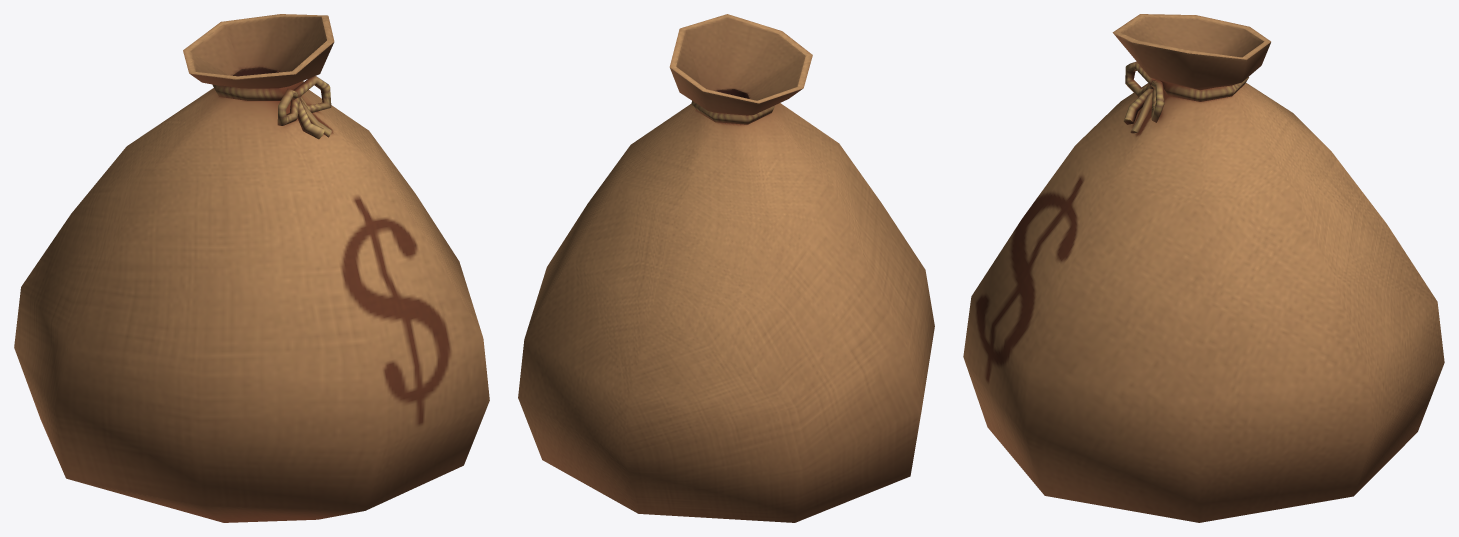
Rendered from Bag-of-Gold.fbx.
3 renders of one model, left to right at view 1: azimuth 30°, elevation 25°; view 2: azimuth 150°, elevation 25°; view 3: azimuth 270°, elevation 25°, orthographic. The views are drawn at different scales.
Parts seen in each view (by area): view 1: Bag-of-Gold; view 2: Bag-of-Gold; view 3: Bag-of-Gold.
Boxes of the visible parts, x1,y1,x2,y2 form: Bag-of-Gold: [14, 14, 489, 522]; Bag-of-Gold: [518, 14, 934, 522]; Bag-of-Gold: [963, 14, 1444, 522].
Size of the model in its own units: 1.26 by 1.32 by 1.29.
